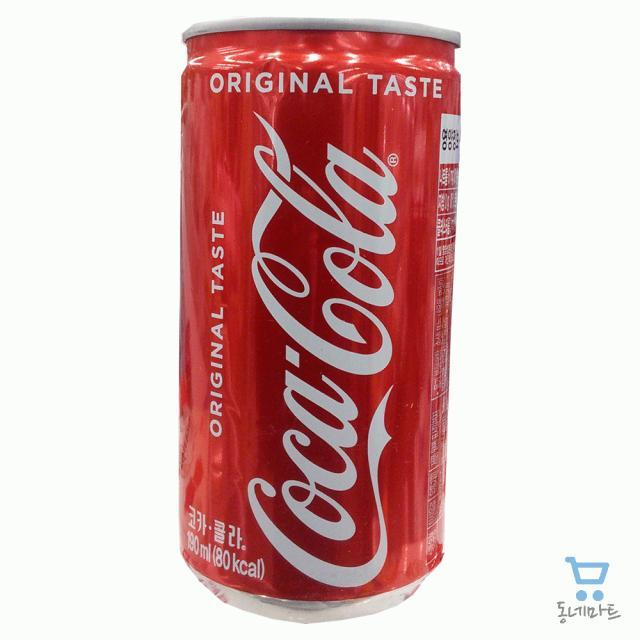coca-cola: (177, 13, 465, 627)
